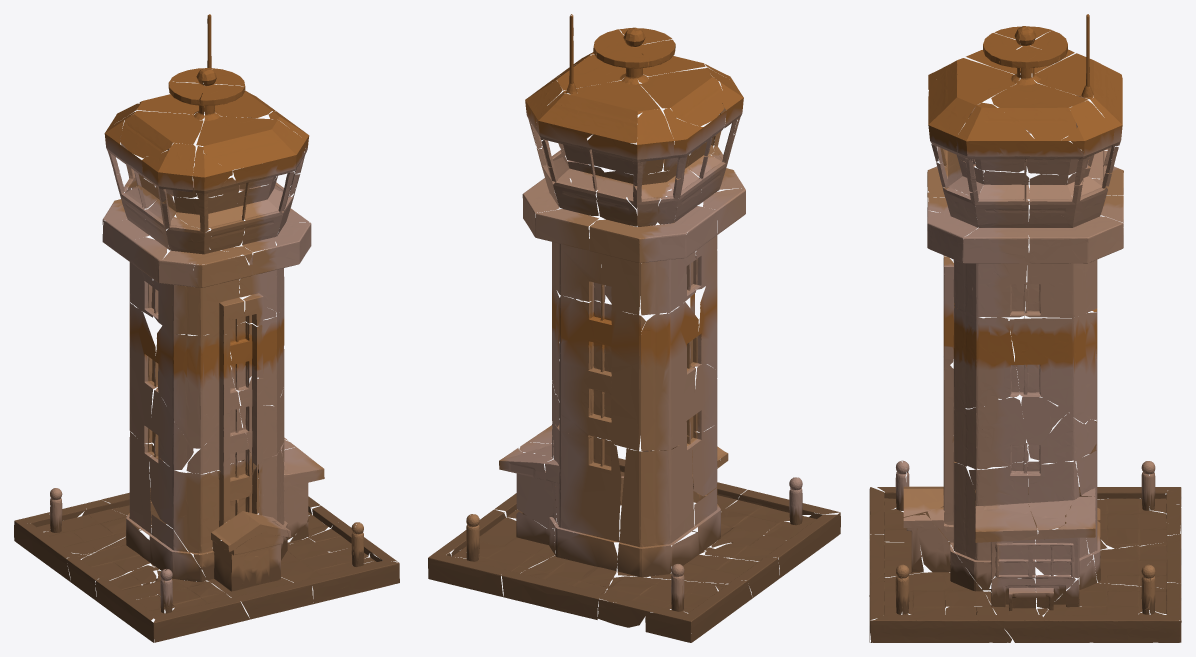
File: hero-traffic-tower.glb
3 renders of one model, left to right at view 1: azimuth 30°, elevation 25°; view 2: azimuth 150°, elevation 25°; view 3: azimuth 270°, elevation 25°, orthographic. The views are drawn at different scales.
Visible parts, largest first — view 1: world; view 2: world; view 3: world.
Boxes of the visible parts, box(x1,y1,x2,y2) form: world: box(14, 14, 399, 642); world: box(428, 14, 840, 642); world: box(869, 14, 1181, 642).
Bounding box in the file's own units: 2.7 × 5.44 × 2.66.
